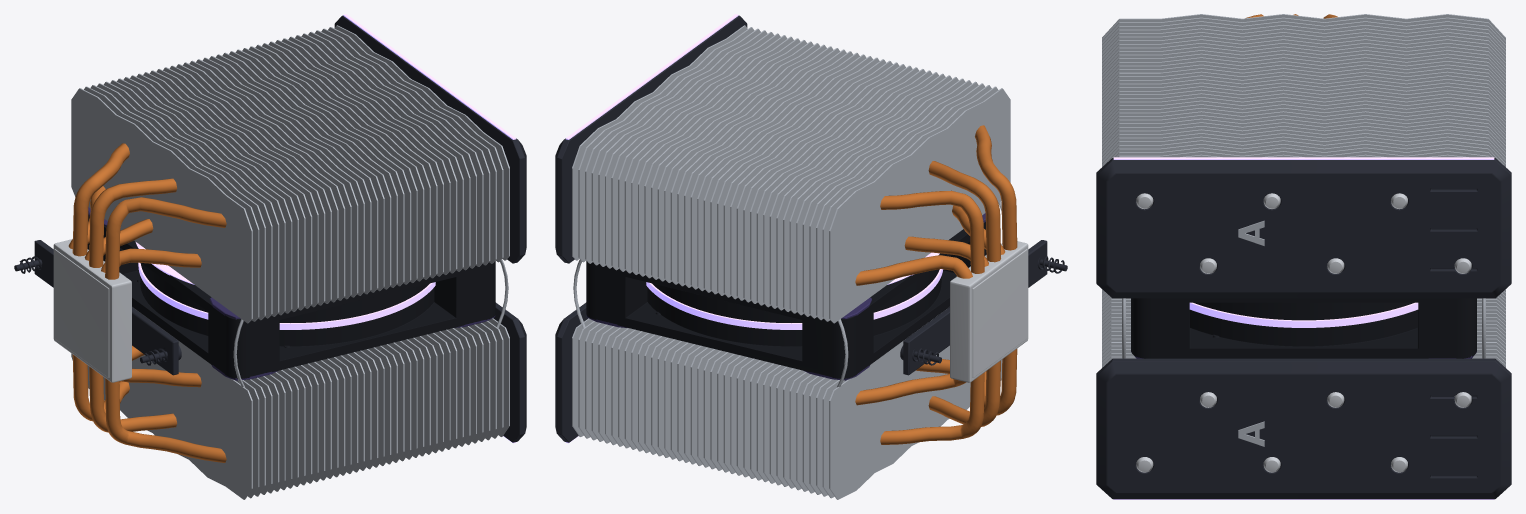
File: CpuCooler.glb
3 renders of one model, left to right at view 1: azimuth 30°, elevation 25°; view 2: azimuth 150°, elevation 25°; view 3: azimuth 270°, elevation 25°, orthographic. The views are drawn at different scales.
Visible parts, largest first — view 1: Fins__Metal__B8BEC8, FanFrame__SmoothPlastic__16181E, Heatpipes__Metal__C87533, Covers__Metal__2A2D38, Base__Metal__C9CDD4, Argb__Neon__8B7CFF; view 2: Fins__Metal__B8BEC8, FanFrame__SmoothPlastic__16181E, Heatpipes__Metal__C87533, Covers__Metal__2A2D38, Base__Metal__C9CDD4, Argb__Neon__8B7CFF; view 3: Covers__Metal__2A2D38, Fins__Metal__B8BEC8, FanFrame__SmoothPlastic__16181E, Argb__Neon__8B7CFF, Base__Metal__C9CDD4.
Part boxes in pixels (x1,y1,x2,y2): Fins__Metal__B8BEC8: [71, 25, 509, 499]; FanFrame__SmoothPlastic__16181E: [87, 214, 495, 378]; Heatpipes__Metal__C87533: [68, 143, 226, 462]; Covers__Metal__2A2D38: [14, 15, 526, 442]; Base__Metal__C9CDD4: [53, 239, 131, 382]; Argb__Neon__8B7CFF: [135, 14, 516, 443]; Fins__Metal__B8BEC8: [572, 25, 1010, 499]; FanFrame__SmoothPlastic__16181E: [586, 222, 986, 378]; Heatpipes__Metal__C87533: [855, 125, 1017, 444]; Covers__Metal__2A2D38: [555, 15, 1067, 442]; Base__Metal__C9CDD4: [950, 241, 1028, 382]; Argb__Neon__8B7CFF: [565, 14, 943, 443]; Covers__Metal__2A2D38: [1096, 158, 1511, 499]; Fins__Metal__B8BEC8: [1102, 14, 1505, 446]; FanFrame__SmoothPlastic__16181E: [1131, 298, 1476, 358]; Argb__Neon__8B7CFF: [1113, 157, 1494, 499]; Base__Metal__C9CDD4: [1136, 193, 1471, 472].
Bounding box in the file's own units: 40.68 × 32.62 × 36.
